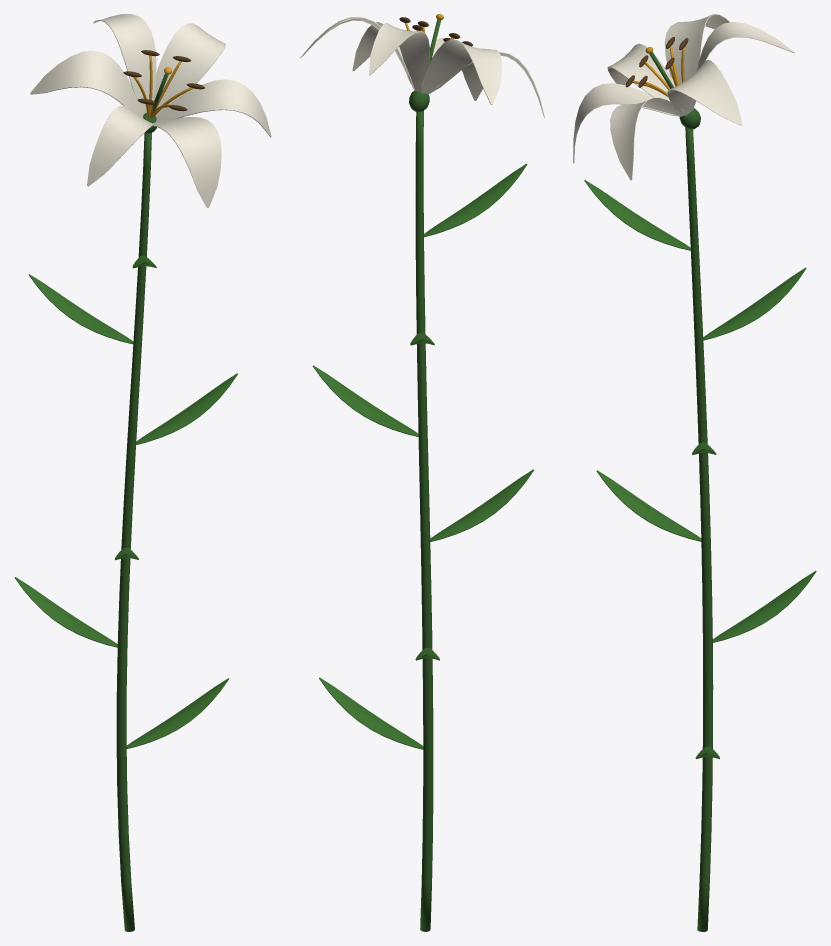
The model's file is hq_medicinal_water_cc0_lod0.glb.
3 views of the same model, side by side, from view 1: azimuth 30°, elevation 25°; view 2: azimuth 150°, elevation 25°; view 3: azimuth 270°, elevation 25° (orthographic).
Visible parts, largest first — view 1: Cut stem, Lily Lily recurved tepal 4, Lily Lily recurved tepal 2, Lily Lily recurved tepal 6, Lily Lily recurved tepal 1, Lily Lily recurved tepal 3, Lily Lily recurved tepal 5, Lily sessile lanceolate leaf 4, Lily sessile lanceolate leaf 1, Lily sessile lanceolate leaf 2, Lily sessile lanceolate leaf 5; view 2: Cut stem, Lily Lily recurved tepal 4, Lily Lily recurved tepal 3, Lily sessile lanceolate leaf 6, Lily sessile lanceolate leaf 1, Lily sessile lanceolate leaf 3, Lily sessile lanceolate leaf 4, Lily Lily recurved tepal 1, Lily Lily recurved tepal 6; view 3: Cut stem, Lily Lily recurved tepal 2, Lily Lily recurved tepal 1, Lily Lily recurved tepal 4, Lily Lily recurved tepal 5, Lily Lily recurved tepal 6, Lily sessile lanceolate leaf 5, Lily sessile lanceolate leaf 2, Lily sessile lanceolate leaf 3, Lily sessile lanceolate leaf 6, Lily Lily recurved tepal 3.
Boxes of the visible parts, x1=… form: Cut stem: x1=116, y1=133, x2=151, y2=931; Lily Lily recurved tepal 4: x1=30, y1=50, x2=143, y2=117; Lily Lily recurved tepal 2: x1=152, y1=23, x2=225, y2=116; Lily Lily recurved tepal 6: x1=152, y1=116, x2=221, y2=207; Lily Lily recurved tepal 1: x1=156, y1=79, x2=271, y2=137; Lily Lily recurved tepal 3: x1=93, y1=14, x2=156, y2=113; Lily Lily recurved tepal 5: x1=87, y1=105, x2=154, y2=186; Lily sessile lanceolate leaf 4: x1=136, y1=373, x2=237, y2=444; Lily sessile lanceolate leaf 1: x1=126, y1=678, x2=228, y2=748; Lily sessile lanceolate leaf 2: x1=14, y1=577, x2=117, y2=647; Lily sessile lanceolate leaf 5: x1=29, y1=274, x2=133, y2=344; Cut stem: x1=415, y1=111, x2=433, y2=931; Lily Lily recurved tepal 4: x1=421, y1=39, x2=501, y2=104; Lily Lily recurved tepal 3: x1=369, y1=23, x2=429, y2=92; Lily sessile lanceolate leaf 6: x1=424, y1=163, x2=527, y2=237; Lily sessile lanceolate leaf 1: x1=319, y1=677, x2=423, y2=749; Lily sessile lanceolate leaf 3: x1=430, y1=469, x2=533, y2=541; Lily sessile lanceolate leaf 4: x1=312, y1=365, x2=418, y2=436; Lily Lily recurved tepal 1: x1=352, y1=22, x2=411, y2=83; Lily Lily recurved tepal 6: x1=432, y1=38, x2=487, y2=100; Cut stem: x1=685, y1=127, x2=713, y2=931; Lily Lily recurved tepal 2: x1=667, y1=60, x2=742, y2=125; Lily Lily recurved tepal 1: x1=610, y1=97, x2=685, y2=180; Lily Lily recurved tepal 4: x1=664, y1=14, x2=729, y2=83; Lily Lily recurved tepal 5: x1=607, y1=43, x2=675, y2=100; Lily Lily recurved tepal 6: x1=573, y1=83, x2=680, y2=163; Lily sessile lanceolate leaf 5: x1=703, y1=267, x2=806, y2=340; Lily sessile lanceolate leaf 2: x1=713, y1=571, x2=816, y2=642; Lily sessile lanceolate leaf 3: x1=596, y1=470, x2=701, y2=541; Lily sessile lanceolate leaf 6: x1=584, y1=180, x2=690, y2=250; Lily Lily recurved tepal 3: x1=693, y1=21, x2=794, y2=104.
Bounding box in the file's own units: 0.129 × 0.5743 × 0.1397.
Materials: 5 (5 with a texture image).
